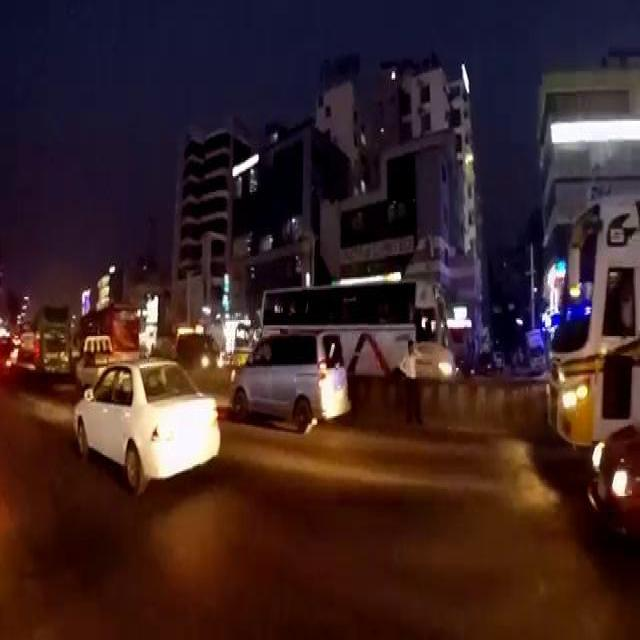11: (73, 332, 137, 386)
5: (72, 356, 220, 487), (586, 420, 638, 536)
9: (226, 326, 348, 428)
Truck: (544, 189, 638, 451), (258, 273, 456, 378), (78, 300, 138, 348), (37, 302, 73, 374)
